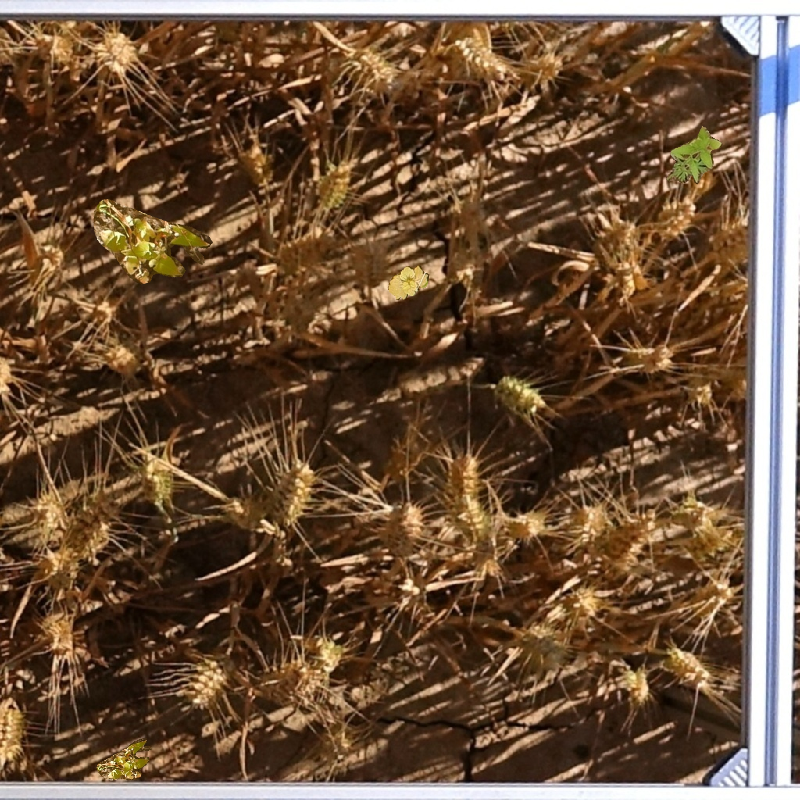spikelet: (671, 495, 732, 556), (265, 457, 317, 525), (595, 511, 656, 567), (451, 29, 508, 82), (661, 643, 717, 694), (375, 498, 426, 554), (179, 654, 230, 710), (302, 635, 347, 697), (514, 620, 571, 668), (441, 449, 484, 512), (369, 263, 430, 306), (313, 155, 358, 211), (92, 26, 140, 78), (492, 372, 547, 416), (594, 216, 641, 265), (618, 338, 675, 376), (351, 48, 398, 94), (139, 451, 177, 507), (653, 196, 698, 240), (566, 501, 611, 544), (38, 609, 77, 658), (35, 545, 81, 586), (558, 583, 603, 623), (1, 700, 27, 767), (519, 48, 564, 85), (502, 506, 548, 542), (31, 488, 68, 531), (102, 339, 142, 377), (617, 664, 653, 705), (682, 367, 717, 407)
weed: (94, 200, 206, 280), (654, 122, 720, 189), (92, 736, 160, 792), (386, 259, 431, 305)
